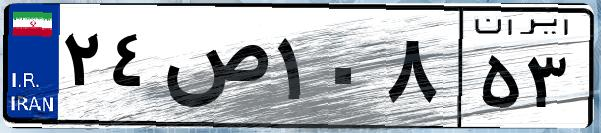0: (330, 28, 385, 110)
1: (270, 28, 330, 110)
2: (57, 26, 110, 100)
3: (525, 38, 570, 115)
4: (110, 28, 158, 98)
5: (475, 38, 525, 113)
8: (385, 28, 445, 110)
ص: (158, 20, 270, 120)
